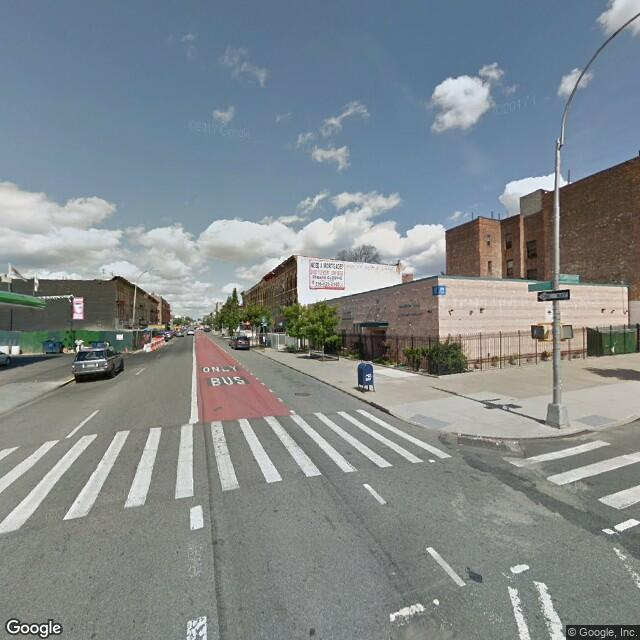litter: (475, 433, 483, 440), (456, 430, 464, 437), (512, 440, 521, 446), (493, 441, 499, 449)
